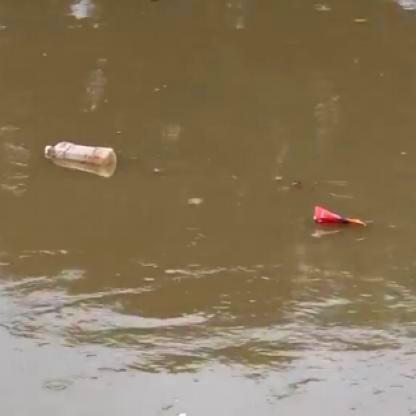Metal: (310, 201, 364, 231)
Plastic: (42, 142, 118, 181)
